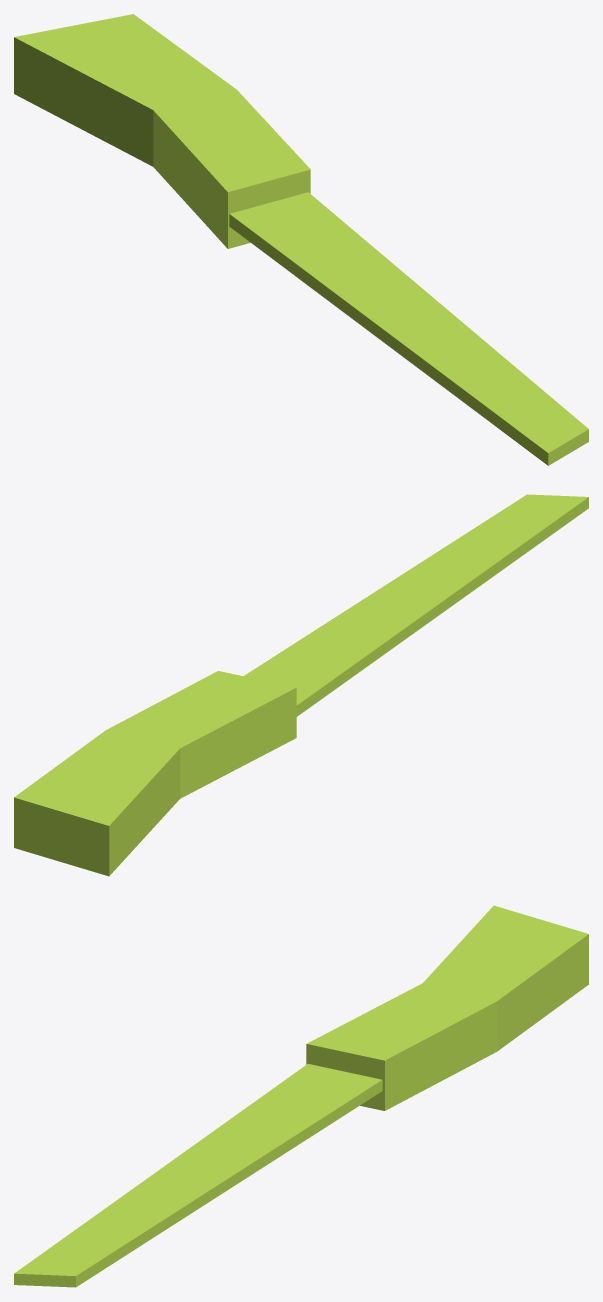
Rendered from knife_convex.fbx.
3 views of the same model, one above another, from view 1: azimuth 30°, elevation 25°; view 2: azimuth 150°, elevation 25°; view 3: azimuth 330°, elevation 25° (orthographic). The views are drawn at different scales.
Visible parts, largest first — view 1: knife_convex, knife_convex.001, knife_convex.002; view 2: knife_convex, knife_convex.001, knife_convex.002; view 3: knife_convex, knife_convex.002, knife_convex.001.
Boxes of the visible parts, bbox=[...] form: knife_convex: bbox=[229, 192, 588, 465]; knife_convex.001: bbox=[14, 14, 236, 166]; knife_convex.002: bbox=[153, 89, 310, 248]; knife_convex: bbox=[243, 494, 588, 716]; knife_convex.001: bbox=[14, 730, 180, 876]; knife_convex.002: bbox=[106, 671, 296, 798]; knife_convex: bbox=[14, 1064, 382, 1287]; knife_convex.002: bbox=[306, 983, 496, 1110]; knife_convex.001: bbox=[423, 905, 588, 1051].
Size of the model in its own units: 1.25 by 9.98 by 0.5825.
